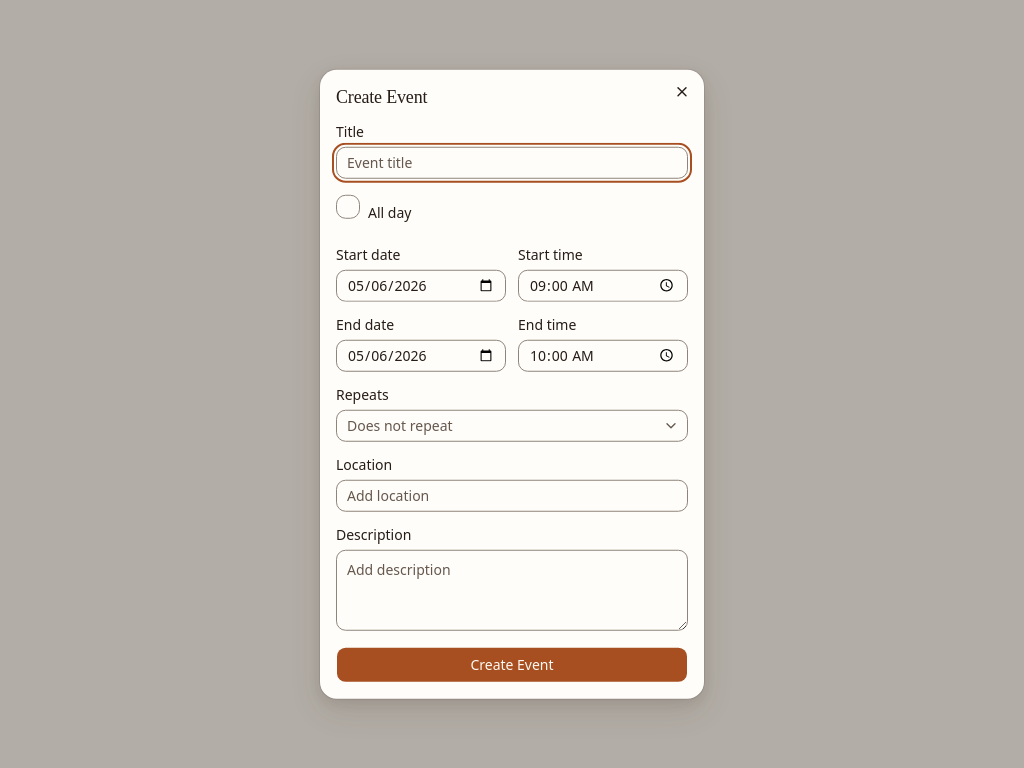
it: EventFormDialog — Ends control › auto-updates the end date when start date changes (untouched end-date)
Click the dropdown named "Repeats" at (400, 425), box left=336, top=409, right=688, bottom=441
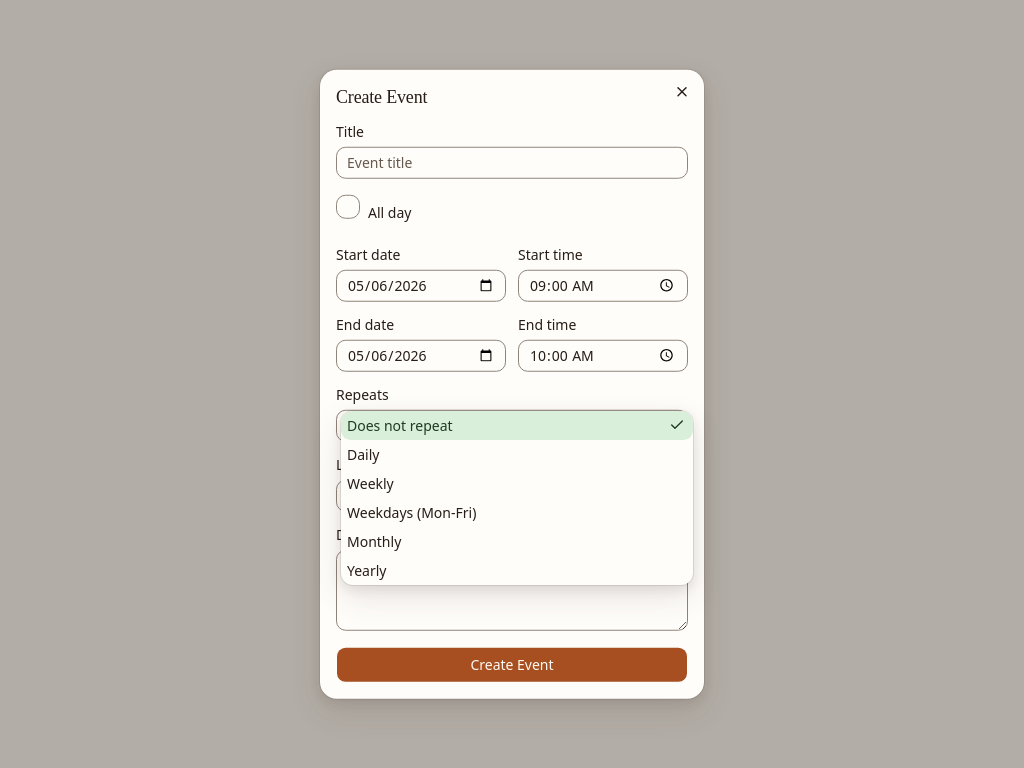
Click the option "Weekly" at (370, 483), box left=347, top=474, right=394, bottom=493
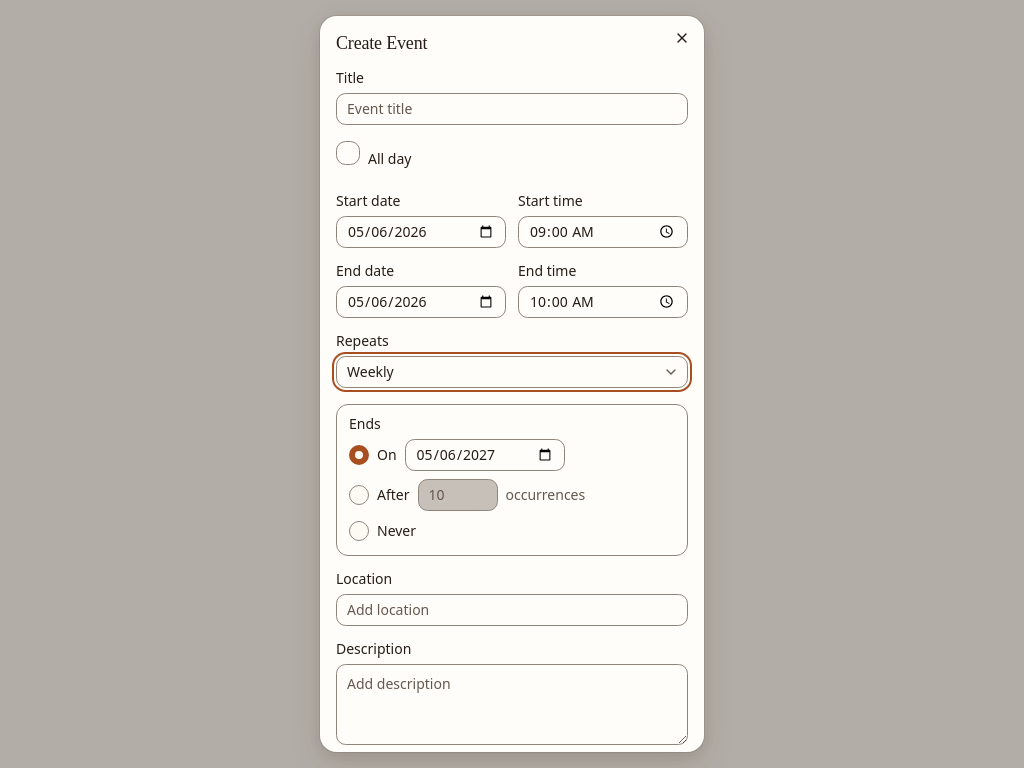
Type "2026-06-10" into the date field labelled "Start date" at (421, 232), box left=336, top=216, right=506, bottom=248
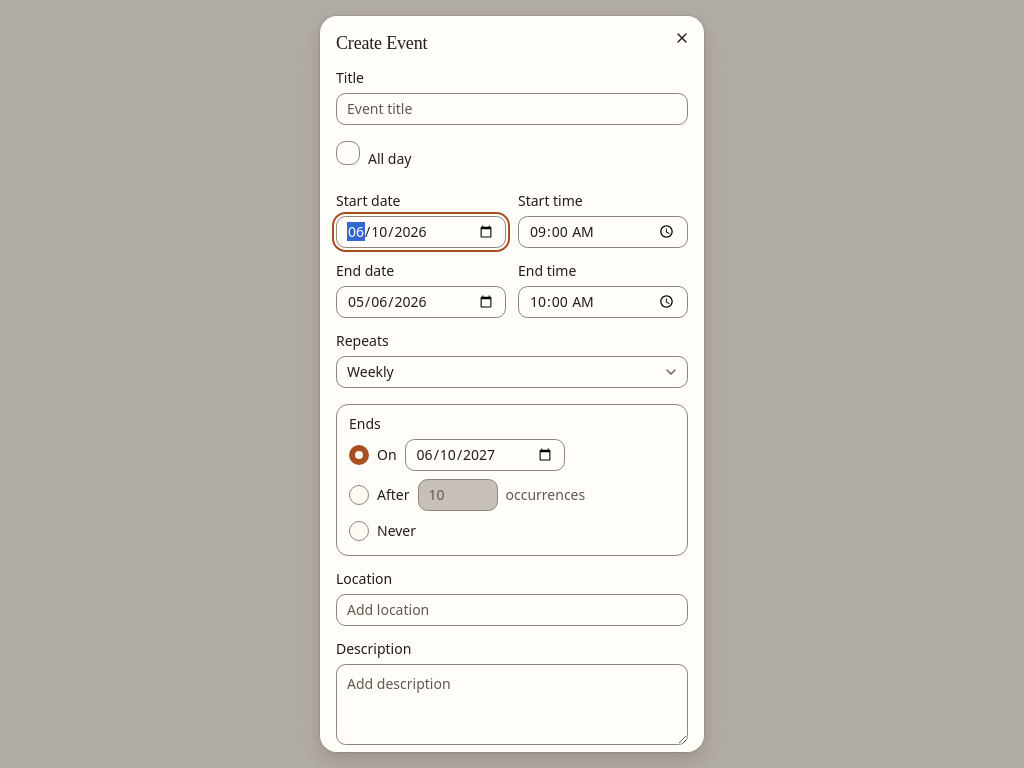
Expected: the date field named "End date" holds "2027-06-10", left=405, top=438, right=565, bottom=470
